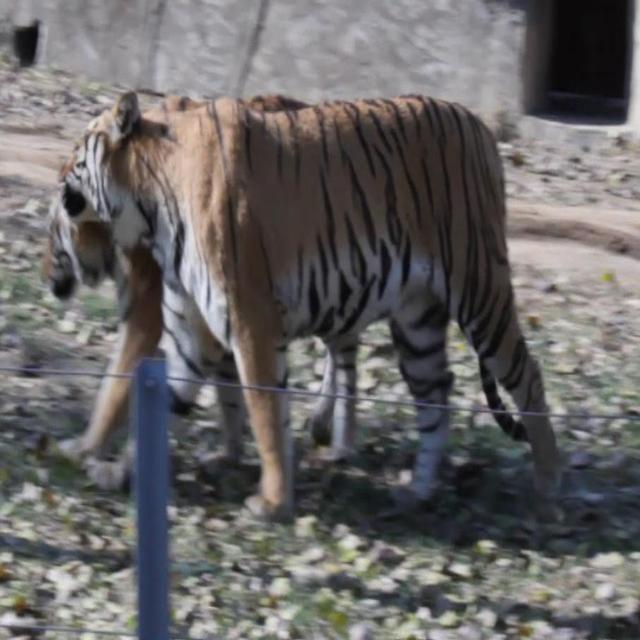tiger: (41, 87, 566, 527), (40, 191, 369, 479)
